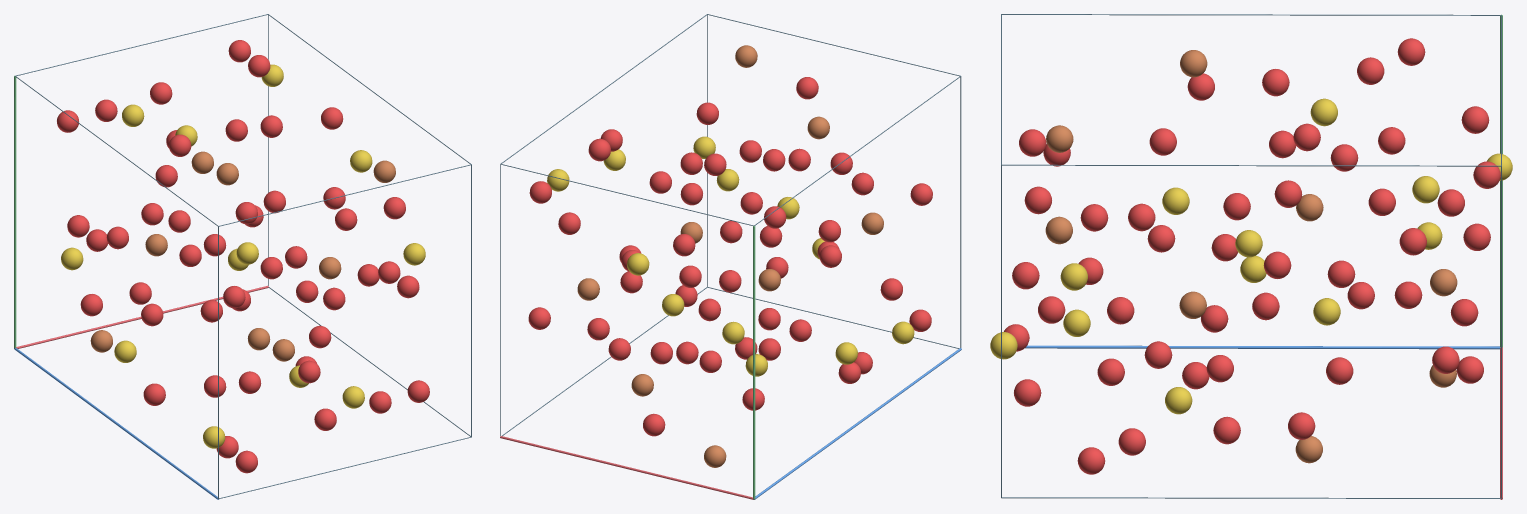
File: chat-ferric-sulfate-monoclinic.glb
3 views of the same model, side by side, from view 1: azimuth 30°, elevation 25°; view 2: azimuth 150°, elevation 25°; view 3: azimuth 270°, elevation 25° (orthographic). The views are drawn at different scales.
Visible parts, largest first — view 1: Ô mạng và các trục a, b, c; view 2: Ô mạng và các trục a, b, c; view 3: Ô mạng và các trục a, b, c, S2 · S · 1 (×4), O5 · O · 1 (×4), O9 · O · 1 (×4), O6 · O · 1 (×4), O10 · O · 1 (×4), O12 · O · 1 (×4), O4 · O · 1 (×4), O1 · O · 1 (×4), O2 · O · 1 (×4), Fe2 · Fe · 1 (×4), O3 · O · 1 (×4) (+6 smaller).
Part boxes in pixels (x1,y1,x2,y2): Ô mạng và các trục a, b, c: (14,14,471,499); Ô mạng và các trục a, b, c: (500,14,961,499); Ô mạng và các trục a, b, c: (1001,14,1502,499); S2 · S · 1 (×4): (1063,176,1439,336); O5 · O · 1 (×4): (1097,127,1405,385); O9 · O · 1 (×4): (1107,57,1395,455); O6 · O · 1 (×4): (1077,38,1425,474); O10 · O · 1 (×4): (1012,69,1490,444); O12 · O · 1 (×4): (1080,144,1422,368); O4 · O · 1 (×4): (1019,129,1483,383); O1 · O · 1 (×4): (1024,180,1478,332); O2 · O · 1 (×4): (1038,73,1464,439); Fe2 · Fe · 1 (×4): (1045,50,1457,463); O3 · O · 1 (×4): (1014,106,1489,406).
Bounding box in the file's own units: 8.39 × 9.13 × 12.16.
